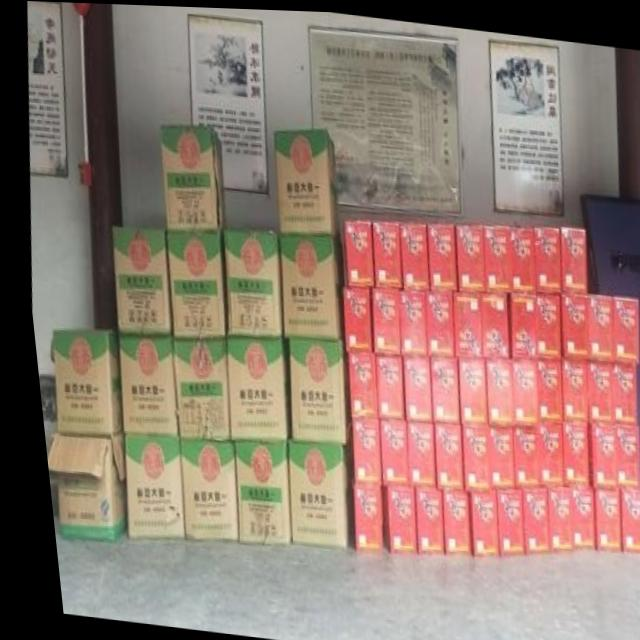box: (37, 430, 115, 541), (44, 328, 112, 435), (271, 125, 334, 235), (156, 122, 222, 227), (274, 231, 339, 336), (279, 440, 341, 547), (220, 336, 282, 442), (160, 227, 220, 336), (280, 334, 341, 441), (106, 225, 163, 334), (115, 432, 173, 538), (220, 226, 276, 334), (110, 332, 169, 434), (166, 336, 221, 438), (170, 438, 225, 539), (226, 442, 279, 542), (449, 217, 480, 290), (372, 482, 404, 552), (421, 217, 452, 286), (340, 214, 369, 285), (343, 480, 372, 551), (395, 352, 425, 419), (394, 218, 423, 287), (484, 482, 513, 551), (450, 354, 479, 421), (368, 215, 396, 284), (419, 285, 447, 354), (404, 484, 432, 553), (447, 288, 476, 354), (452, 420, 481, 486), (501, 286, 529, 354), (371, 415, 399, 483), (458, 485, 486, 553), (423, 353, 451, 420), (425, 419, 453, 486), (397, 416, 425, 483), (478, 219, 505, 288), (606, 289, 633, 358), (336, 284, 365, 348), (579, 418, 607, 484), (366, 283, 392, 354), (554, 288, 581, 356), (511, 480, 538, 548), (341, 350, 369, 415), (503, 220, 530, 287), (344, 414, 371, 481), (529, 219, 555, 288), (392, 286, 419, 352), (580, 289, 606, 357), (477, 355, 504, 420), (556, 222, 581, 291), (558, 479, 584, 545), (367, 353, 394, 416), (582, 483, 609, 546), (535, 479, 560, 547), (475, 289, 501, 354), (432, 486, 458, 551), (553, 415, 579, 479), (610, 481, 635, 547), (554, 355, 579, 420), (603, 359, 629, 421), (579, 357, 605, 418), (529, 412, 553, 478), (504, 355, 529, 418), (479, 421, 505, 481), (504, 420, 529, 481), (530, 289, 553, 355), (529, 355, 554, 415), (605, 419, 629, 481)
